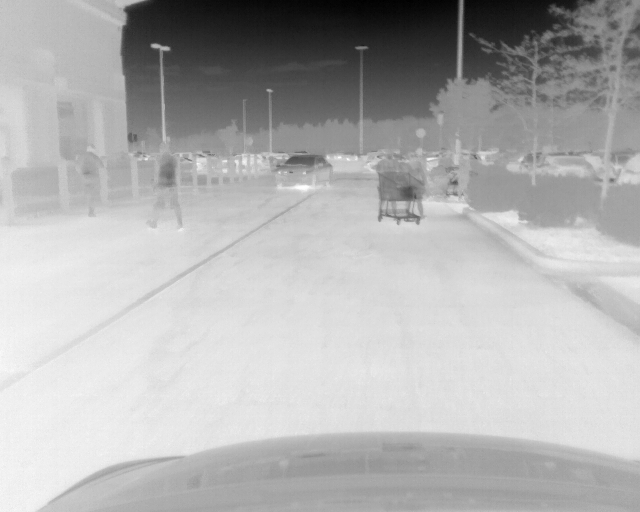car: (275, 156, 334, 189), (539, 156, 595, 181)
people: (146, 145, 186, 233), (77, 144, 104, 219), (377, 152, 398, 220), (406, 153, 425, 219), (456, 151, 471, 203), (437, 150, 452, 170)
